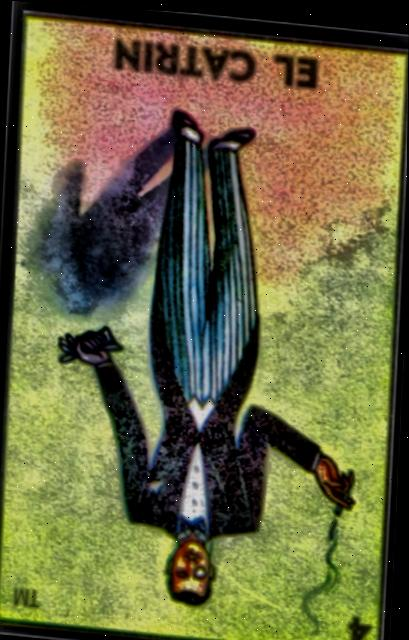El Catrin: (0, 13, 405, 640)
